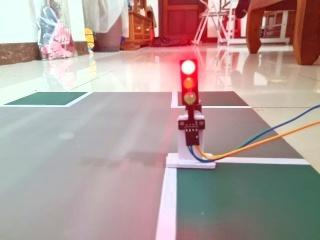red: (172, 48, 210, 118)
